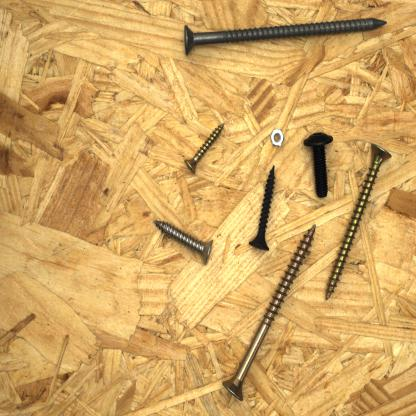screw: (220, 221, 318, 404), (323, 140, 393, 303), (177, 14, 390, 61), (151, 216, 216, 268), (246, 162, 278, 254), (299, 129, 336, 200), (183, 120, 228, 176)
